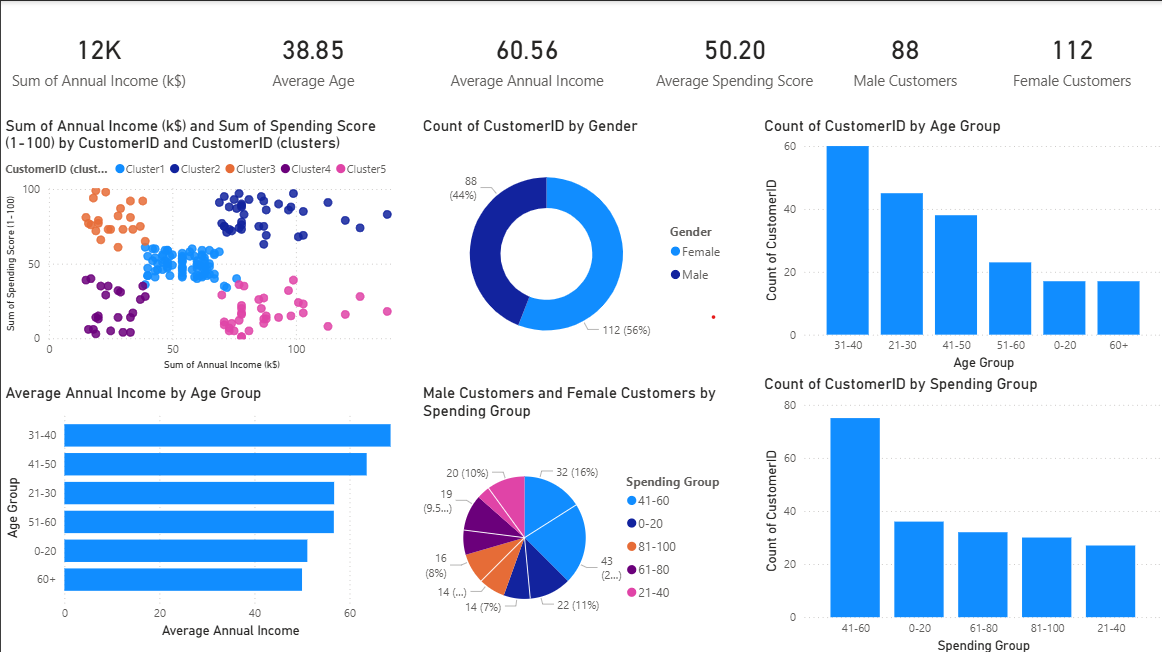

This screenshot's page, from the dashboard's own definition file:
{"tool":"powerbi","page":{"name":"Page 1","canvas":[1280,720],"ordinal":0},"visuals":[{"type":"card","fields":{"Values":["Sum(Mall_Customers.Annual Income (k$))"]},"box":[0,0,215.4,126.2],"z":0},{"type":"card","fields":{"Values":["Mall_Customers.Average Age"]},"box":[215.4,0,255.2,126.2],"z":1},{"type":"card","fields":{"Values":["Mall_Customers.Average Annual Income"]},"box":[458.3,0,238.8,126.2],"z":2},{"type":"card","fields":{"Values":["Mall_Customers.Average Spending Score"]},"box":[697.1,0,216.8,126.2],"z":3},{"type":"card","fields":{"Values":["Mall_Customers.Male Customers"]},"box":[913.9,0,157.8,126.2],"z":4},{"type":"card","fields":{"Values":["Mall_Customers.Female Customers"]},"box":[1071.7,0,208.6,126.2],"z":5},{"type":"scatterChart","fields":{"X":["Sum(Mall_Customers.Annual Income (k$))"],"Y":["Sum(Mall_Customers.Spending Score (1-100))"],"Category":["Mall_Customers.CustomerID"],"Series":["Mall_Customers.CustomerID (clusters)"]},"box":[0,126.2,447.3,284],"z":7},{"type":"donutChart","fields":{"Y":["CountNonNull(Mall_Customers.CustomerID)"],"Category":["Mall_Customers.Gender"]},"box":[458.3,126.2,347.2,284],"z":8},{"type":"columnChart","fields":{"Category":["Mall_Customers.Age Group"],"Y":["CountNonNull(Mall_Customers.CustomerID)"]},"box":[832.9,126.2,447.3,284],"z":9},{"type":"clusteredBarChart","fields":{"Category":["Mall_Customers.Age Group"],"Y":["Mall_Customers.Average Annual Income"]},"box":[0,420,447,284],"z":10},{"type":"clusteredColumnChart","fields":{"Category":["Mall_Customers.Spending Group"],"Y":["CountNonNull(Mall_Customers.CustomerID)"]},"box":[832.9,410.3,447.3,310.1],"z":11},{"type":"pieChart","fields":{"Y":["Mall_Customers.Male Customers","Mall_Customers.Female Customers"],"Category":["Mall_Customers.Spending Group"]},"box":[458.3,419.9,347.2,300.5],"z":12}]}

Visuals, with their boxes in screenshot pixels (x1, y1, x2, y2), scaled from the page's 1280x720 canvas onto the 1162x652 screenshot:
card - Sum(Mall_Customers.Annual Income (k$)): Rect(0, 0, 196, 114)
card - Mall_Customers.Average Age: Rect(196, 0, 427, 114)
card - Mall_Customers.Average Annual Income: Rect(416, 0, 633, 114)
card - Mall_Customers.Average Spending Score: Rect(633, 0, 830, 114)
card - Mall_Customers.Male Customers: Rect(830, 0, 973, 114)
card - Mall_Customers.Female Customers: Rect(973, 0, 1161, 114)
scatterChart - Sum(Mall_Customers.Annual Income (k$)) x Sum(Mall_Customers.Spending Score (1-100)): Rect(0, 114, 406, 371)
donutChart - CountNonNull(Mall_Customers.CustomerID) x Mall_Customers.Gender: Rect(416, 114, 731, 371)
columnChart - Mall_Customers.Age Group x CountNonNull(Mall_Customers.CustomerID): Rect(756, 114, 1161, 371)
clusteredBarChart - Mall_Customers.Age Group x Mall_Customers.Average Annual Income: Rect(0, 380, 406, 638)
clusteredColumnChart - Mall_Customers.Spending Group x CountNonNull(Mall_Customers.CustomerID): Rect(756, 372, 1161, 651)
pieChart - Mall_Customers.Male Customers x Mall_Customers.Female Customers: Rect(416, 380, 731, 651)
